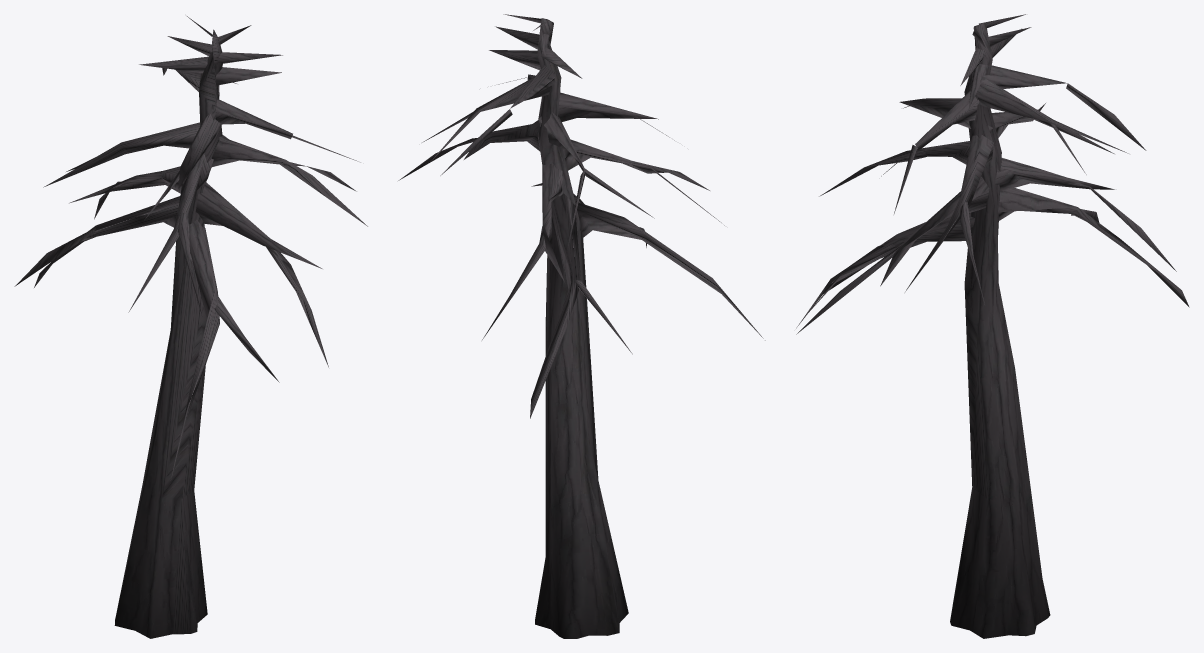
File: DeadTree_4.low.gltf
The picture shows the model from 3 angles, left to right: view 1: azimuth 30°, elevation 25°; view 2: azimuth 150°, elevation 25°; view 3: azimuth 270°, elevation 25°; orthographic projection. The views are drawn at different scales.
Visible parts, largest first — view 1: DeadTree_4; view 2: DeadTree_4; view 3: DeadTree_4.
Boxes of the visible parts, bbox=[...] form: DeadTree_4: bbox=[14, 16, 367, 638]; DeadTree_4: bbox=[398, 14, 765, 638]; DeadTree_4: bbox=[796, 14, 1189, 638].
Bounding box in the file's own units: 6.5 × 12.56 × 7.22.
Materials: 1 (1 with a texture image).
